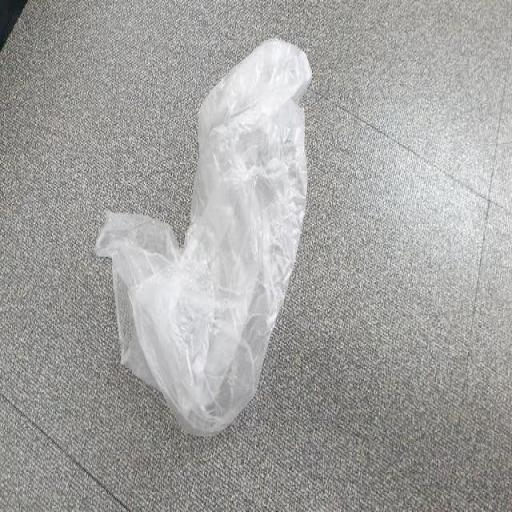plastic-bag: (91, 39, 311, 446)
